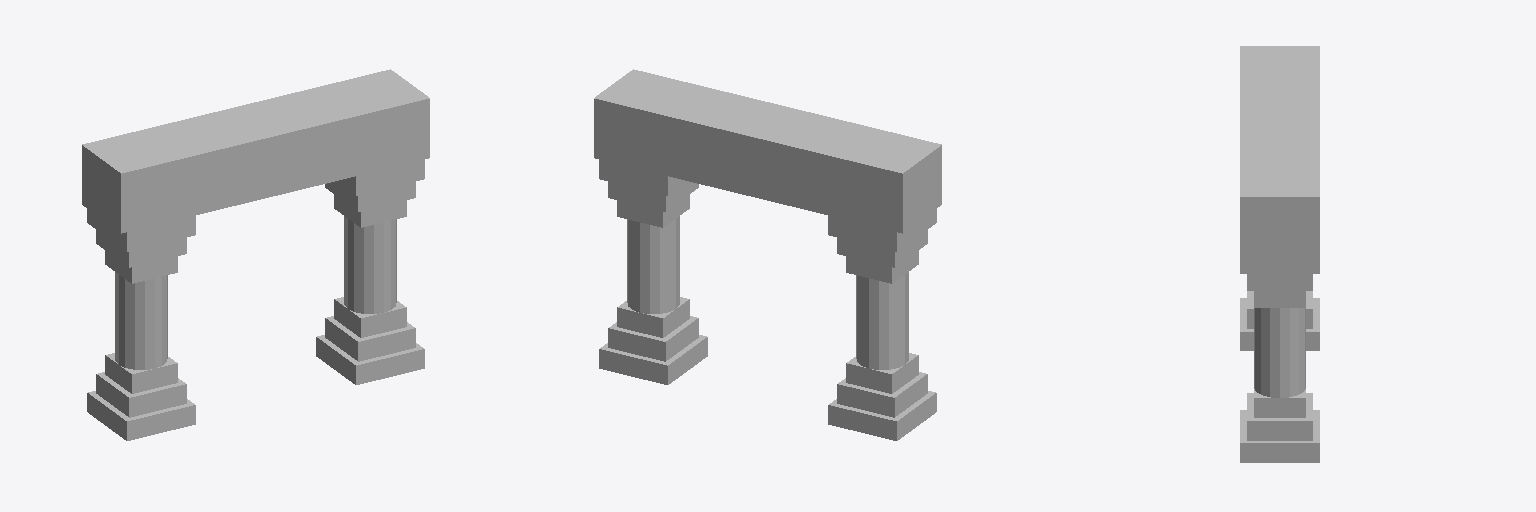
File: arco_senza_texture.obj
3 views of the same model, side by side, from view 1: azimuth 30°, elevation 25°; view 2: azimuth 150°, elevation 25°; view 3: azimuth 270°, elevation 25° (orthographic).
Visible parts, largest first — view 1: object_1; view 2: object_1; view 3: object_1.
Part boxes in pixels (bbox=[...]): object_1: bbox=[82, 69, 429, 440]; object_1: bbox=[594, 69, 941, 440]; object_1: bbox=[1240, 46, 1319, 462].
Bounding box in the file's own units: 108 × 89.8 × 24.